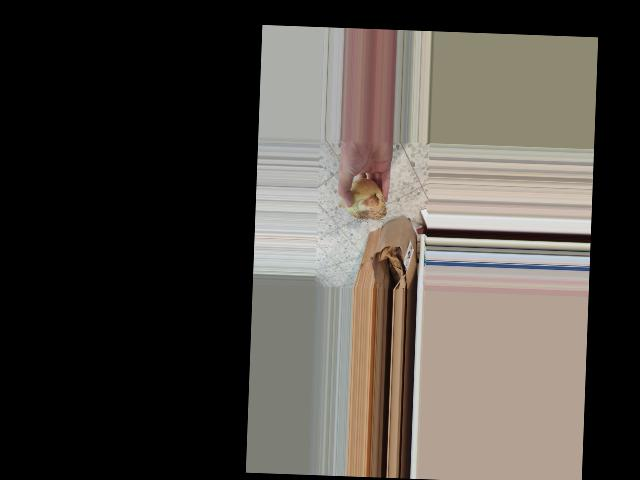onion: (341, 175, 387, 224)
